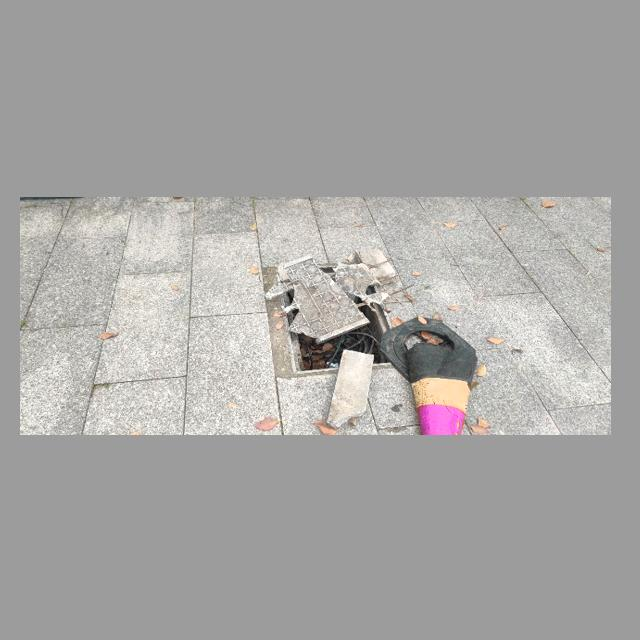broke: (279, 246, 399, 373)
